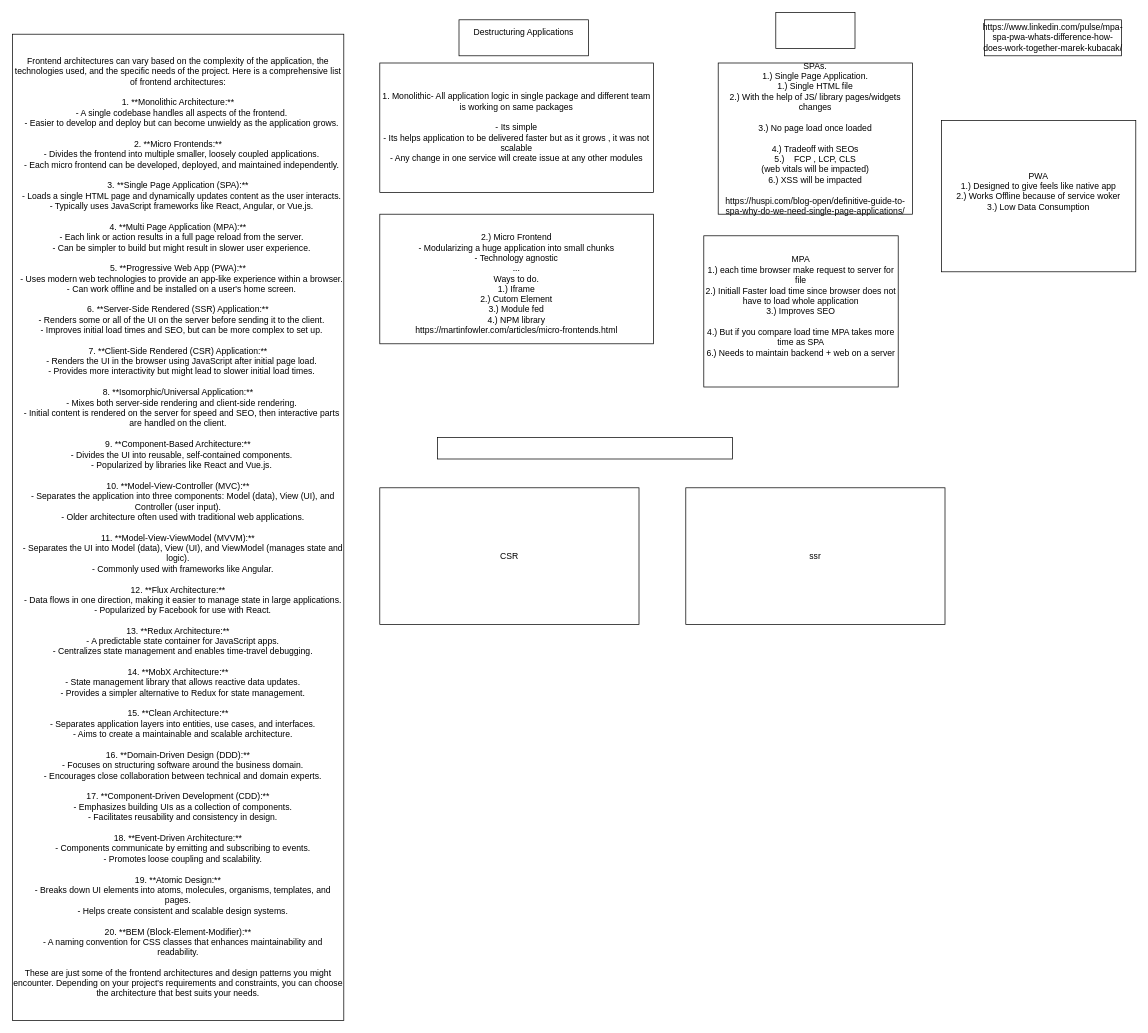
Image size: 1148x1033. Some labels were removed from this diagram. The box of each missing label's shape, as (x1, y1, x2, y2) in pixels:
Type of Rendering....: (437, 437, 733, 459)
Types of Web Apps: (775, 12, 855, 49)
